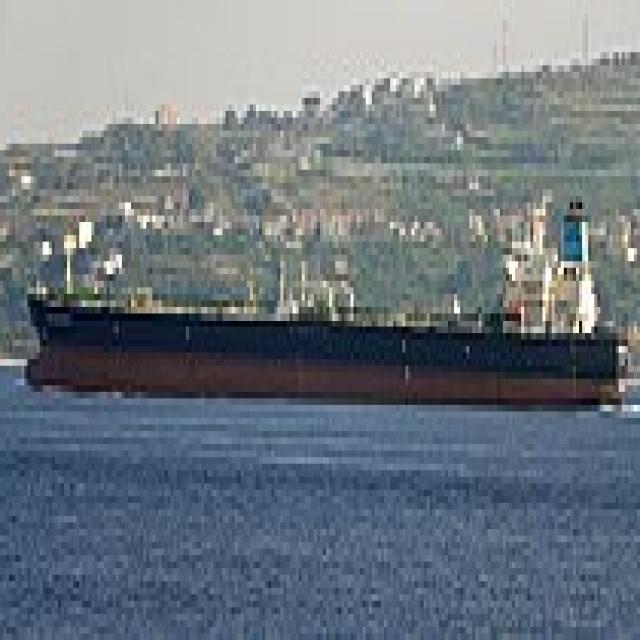Tanker: (24, 183, 628, 411)
